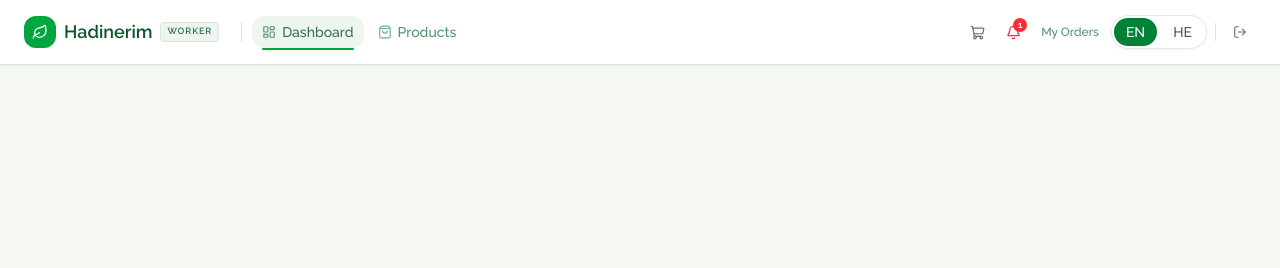
Test: WorkerNavbar — bell / notification panel › renders newly assigned tasks in the panel when newTasks exist
Click the button named "task notifications" at (1013, 32), box [997,16,1029,48]
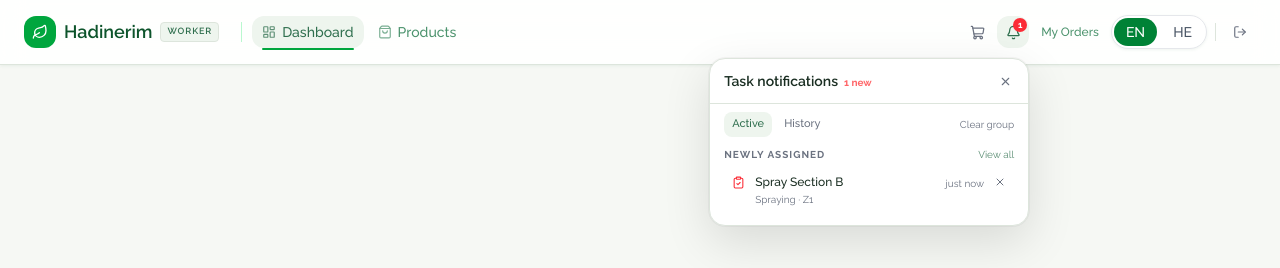
Expected: the text "Spray Section B" is shown, [755,174,843,188]
Expected: the text "Newly Assigned" is shown, [724,146,825,162]
